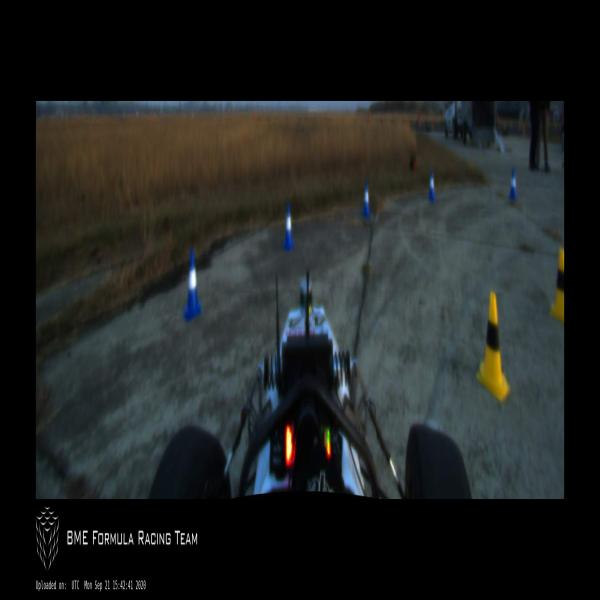blue_cone: (183, 251, 202, 320), (283, 205, 294, 249), (361, 181, 371, 220), (427, 170, 436, 204), (508, 169, 516, 200)
yellow_cone: (476, 291, 509, 401), (550, 250, 564, 324)
